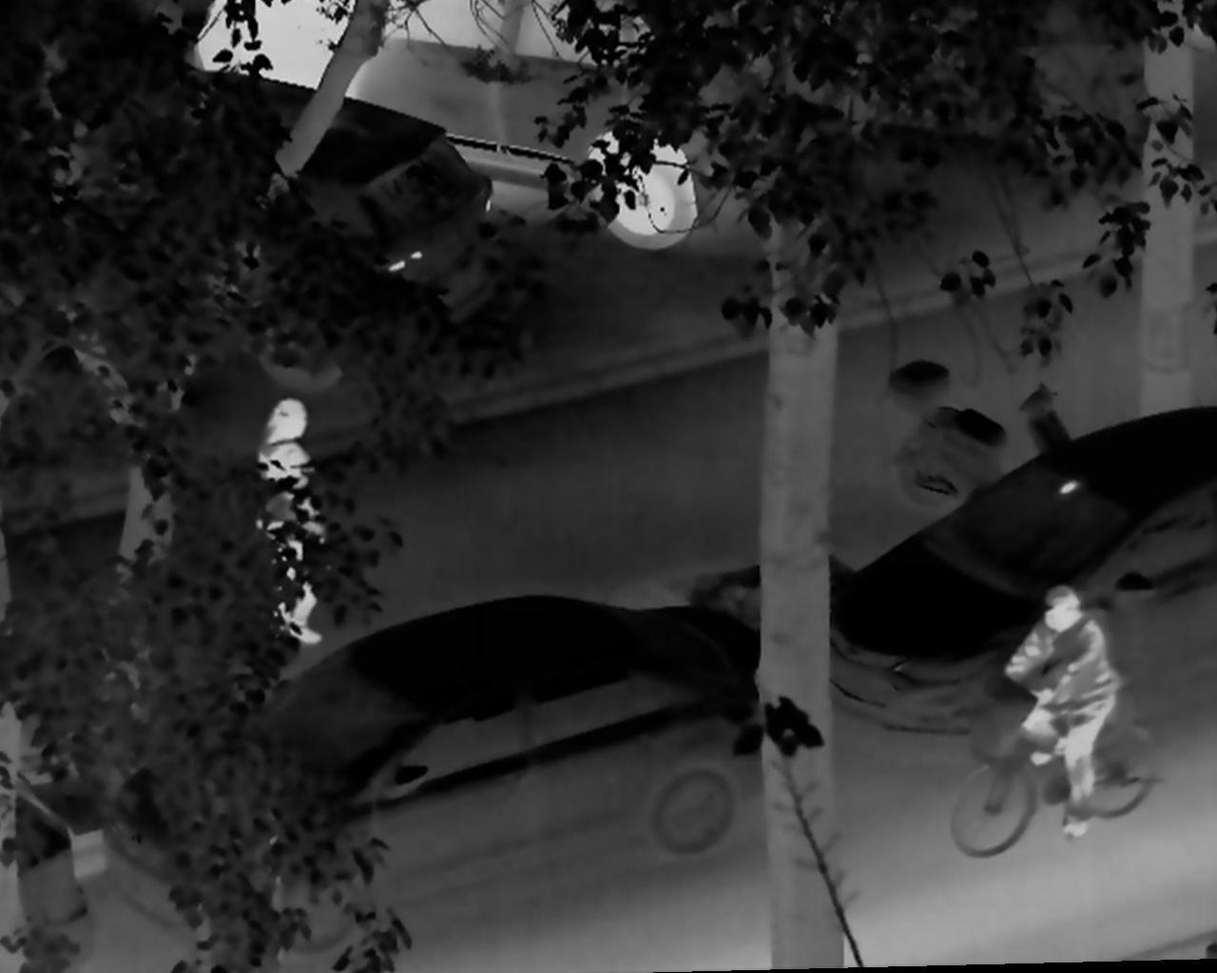person: (995, 587, 1117, 845), (245, 390, 330, 651)
